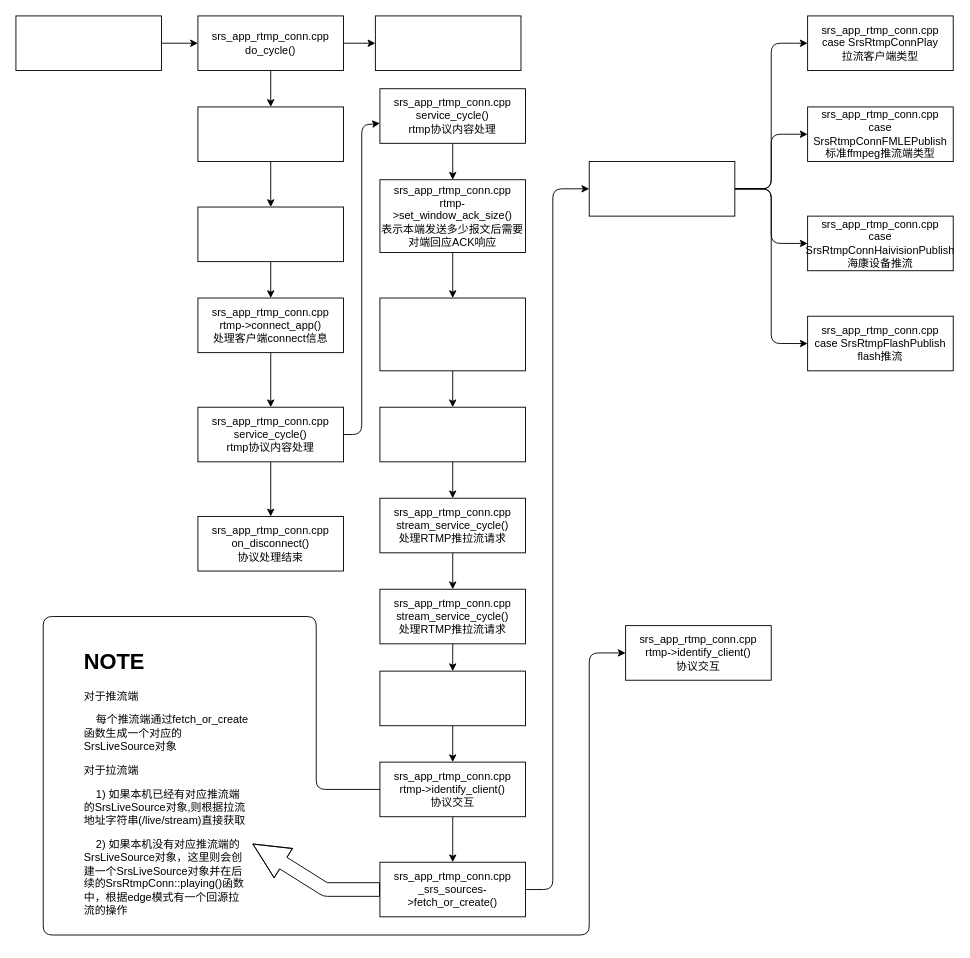
The diagram is 970 pixels wide and 958 high, and some of its shapes have lost their labels. Each missing label, with the centre of its shape:
"srs_app_rtmp_conn.cpp ........ 一些配置和协议处理" belongs at point (452, 434).
"srs_app_rtmp_conn.cpp manager->remove(this) 表示需要执行连接中断处理" belongs at point (447, 43).
"srs_app_rtmp_conn.cpp rtmp->handshake() 处理rtmp握手" belongs at point (270, 234).
"srs_app_rtmp_conn.cpp rtmp->set_in_window_ack_size() 表示本端接收多少报文后发送ACK响应" belongs at point (452, 334).
"srs_app_rtmp_conn.cpp SrsRtmpConn::cycle()" belongs at point (88, 43).
"srs_app_rtmp_conn.cpp SrsRtmpConn::do_cycle() 处理RTMP协议" belongs at point (270, 134).
"srs_app_rtmp_conn.cpp SrsRtmpConn::stream_service_cycle()" belongs at point (452, 698).
"srs_app_rtmp_conn.cpp switch(info->type)" belongs at point (661, 188).
